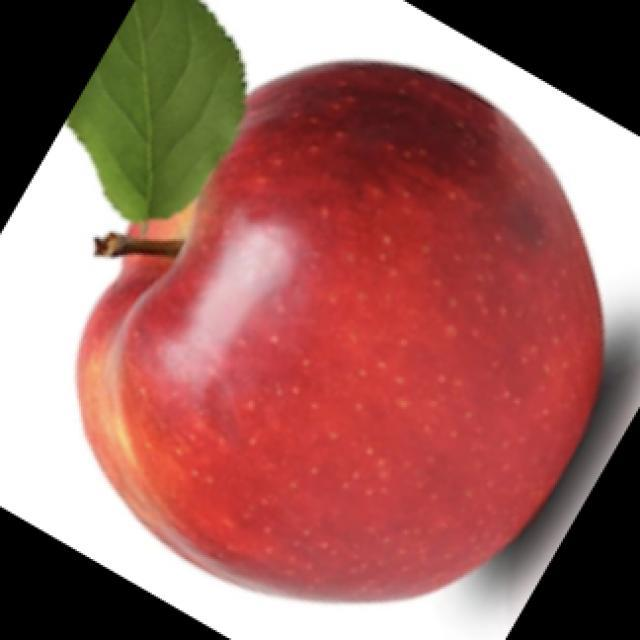Fresh Apple: (79, 88, 604, 597)
